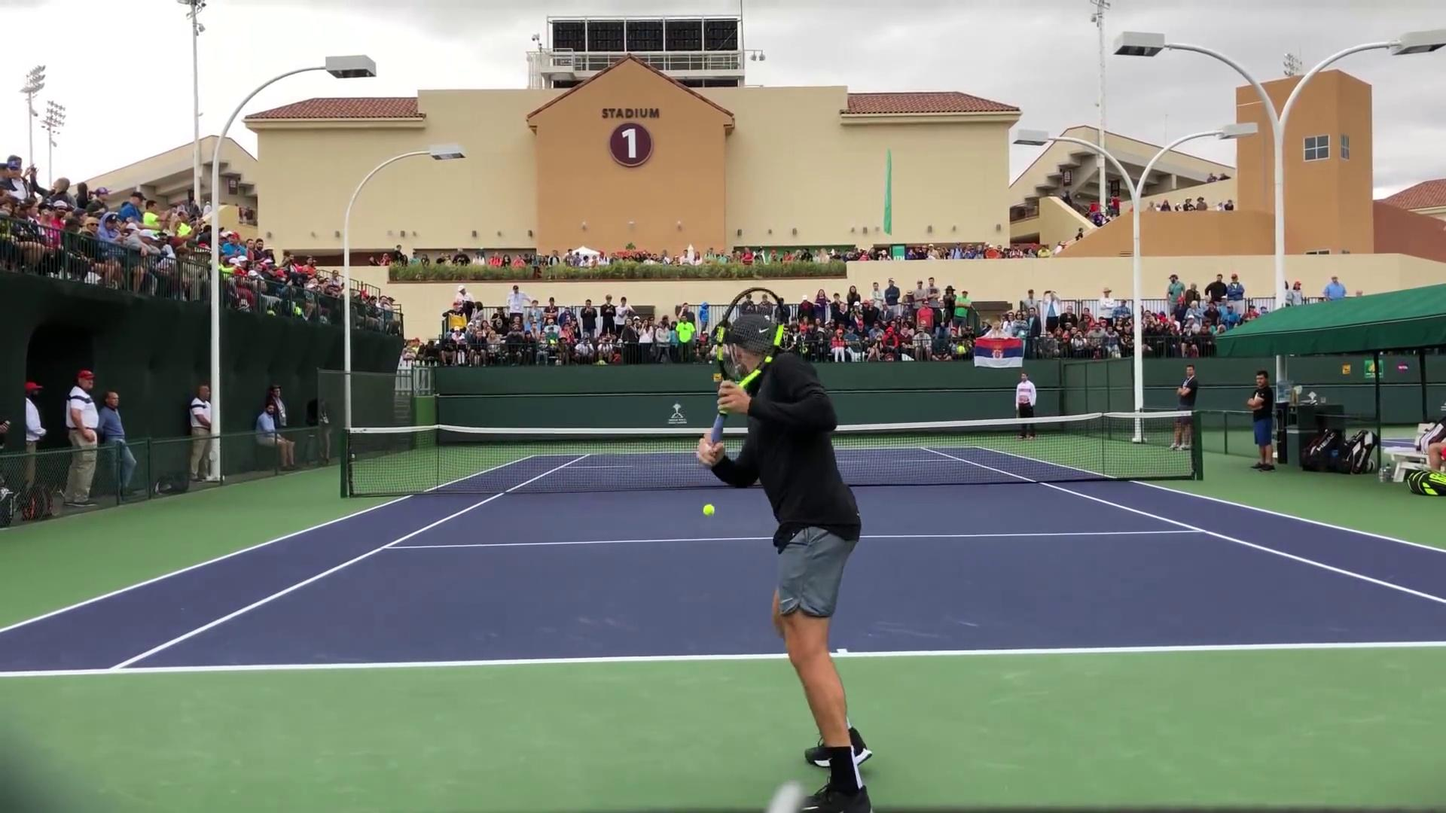ball: (701, 503, 717, 516), (720, 306, 723, 313)
